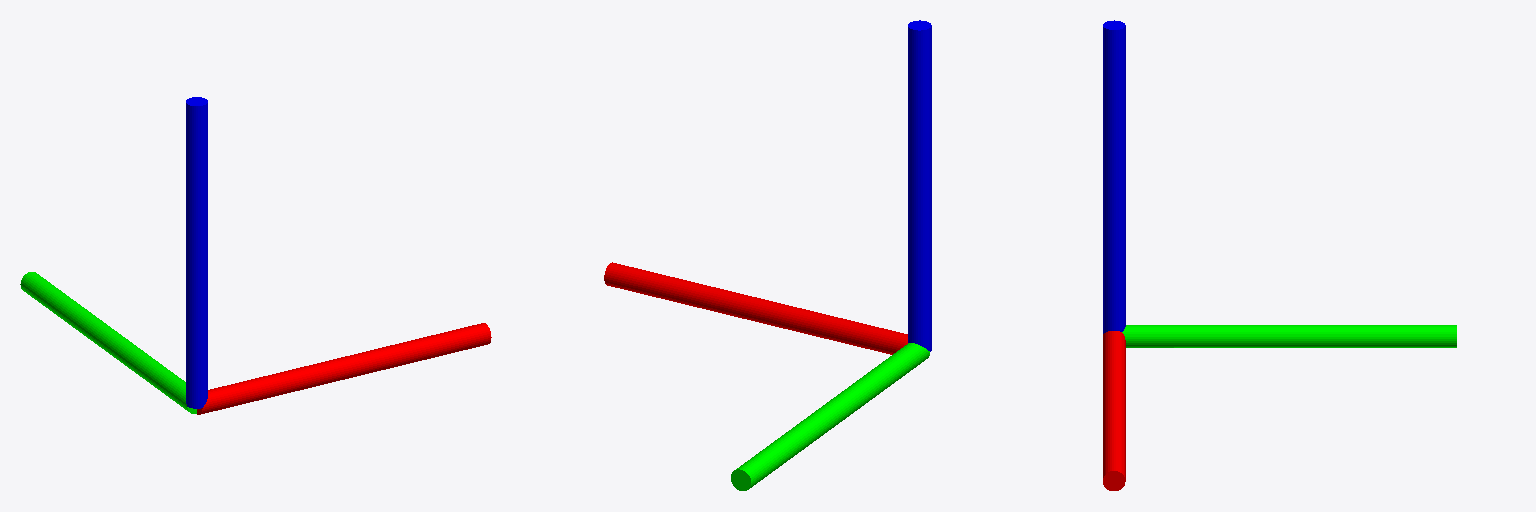
robot.urdf — panda:
<?xml version="1.0" ?>

<robot name="panda" xmlns:xacro="http://www.ros.org/wiki/xacro">

  <link name="base" />

  <link name="link_0">
    <visual>
      <origin xyz="0 0 0.15" rpy="0 0 0" />
      <geometry>
        <cylinder radius="0.01" length="0.3"/>
      </geometry>
      <material name="red">
        <color rgba="1. 0. 0. 1."/>
      </material>
    </visual>
  </link>
  
  <link name="link_1">
    <visual>
      <origin xyz="0 0 0.15" rpy="0 0 0" />
      <geometry>
        <cylinder radius="0.01" length="0.3"/>
      </geometry>
      <material name="green">
        <color rgba="0. 1. 0. 1."/>
      </material>
    </visual>
  </link>

    <link name="link_2">
    <visual>
      <origin xyz="0 0 0.15" rpy="0 0 0" />
      <geometry>
        <cylinder radius="0.01" length="0.3"/>
      </geometry>
      <material name="blue">
        <color rgba="0. 0. 1. 1."/>
      </material>
    </visual>
  </link>

  <joint name="joint_0" type="fixed">
    <origin rpy=" 0 1.57075 0" xyz="0 0 0"/>
    <parent link="base"/>
    <child link="link_0"/>
    <axis xyz="0 0 1"/>
  </joint>


  <joint name="joint_1" type="fixed">
    <origin rpy="-1.57075 0 0" xyz="0 0 0"/>
    <parent link="base"/>
    <child link="link_1"/>
    <axis xyz="0 0 1"/>
  </joint>

   <joint name="joint_2" type="fixed">
    <origin rpy="0 0 0" xyz="0 0 0"/>
    <parent link="base"/>
    <child link="link_2"/>
    <axis xyz="0 0 1"/>
  </joint>

</robot>

--- What the picture shows (computed from the rendered views, not written in the file) ---
3 views of the same robot in one strip: view 1: azimuth 30°, elevation 25°; view 2: azimuth 150°, elevation 25°; view 3: azimuth 270°, elevation 25° (orthographic).
Model panda with 4 links and 3 joints (3 fixed), rooted at base, posed all joints at 0.
Links seen in each view (by area): view 1: link_2, link_0, link_1; view 2: link_2, link_0, link_1; view 3: link_1, link_2, link_0.
Link boxes in pixels (x1,y1,x2,y2): link_2: (186, 97, 207, 408); link_0: (197, 323, 491, 414); link_1: (20, 272, 196, 413); link_2: (908, 20, 931, 351); link_0: (604, 262, 907, 354); link_1: (731, 343, 929, 490); link_1: (1122, 325, 1456, 347); link_2: (1103, 20, 1125, 333); link_0: (1103, 331, 1125, 490).
Bounding box of the posed robot: 0.31 × 0.31 × 0.31 m (x, y, z).
Geometry: primitives only (box / cylinder / sphere), no mesh files.